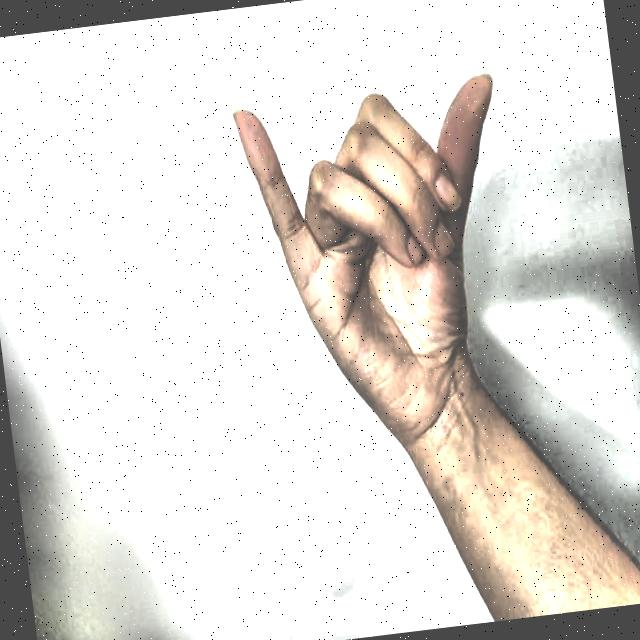Oi: (205, 21, 548, 477)
